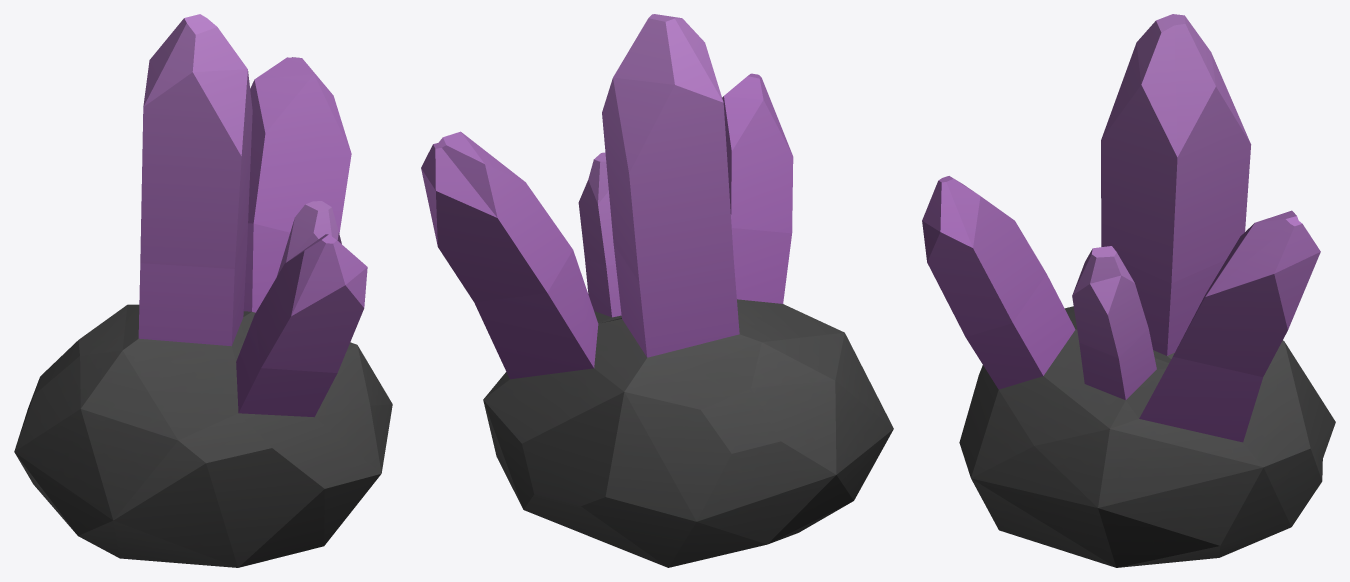
File: amethyst.glb
3 renders of one model, left to right at view 1: azimuth 30°, elevation 25°; view 2: azimuth 150°, elevation 25°; view 3: azimuth 270°, elevation 25°, orthographic. The views are drawn at different scales.
Parts seen in each view (by area): view 1: amethyst; view 2: amethyst; view 3: amethyst.
Part boxes in pixels (left/top/right/bottom): amethyst: left=14, top=14, right=392, bottom=567; amethyst: left=421, top=14, right=893, bottom=567; amethyst: left=922, top=14, right=1335, bottom=567.
Bounding box in the file's own units: 2.18 × 2.96 × 2.1.
1 material, 1 textured.
